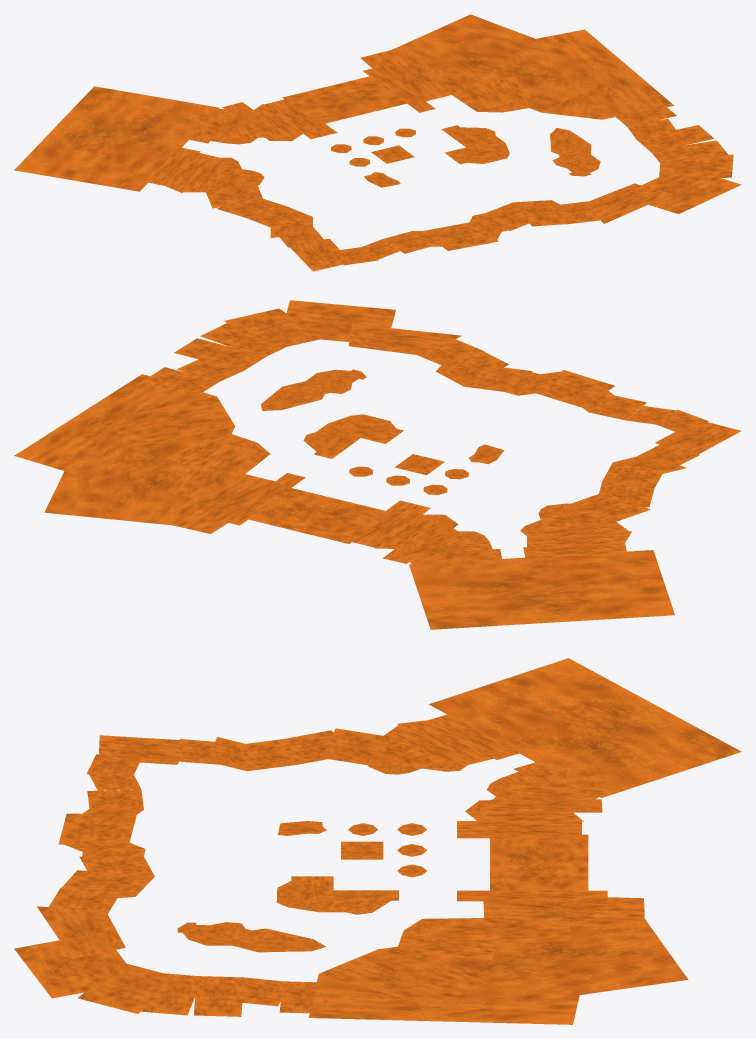
Rendered from LV2Hitbox.fbx.
3 views of the same model, one above another, from view 1: azimuth 30°, elevation 25°; view 2: azimuth 150°, elevation 25°; view 3: azimuth 270°, elevation 25° (orthographic). The views are drawn at different scales.
Parts seen in each view (by area): view 1: polySurface428; view 2: polySurface428; view 3: polySurface428.
Part boxes in pixels (x1,y1,x2,y2): polySurface428: (14,14,741,271); polySurface428: (14,300,741,629); polySurface428: (14,658,741,1024).
Bounding box in the file's own units: 670 × 0 × 562.
